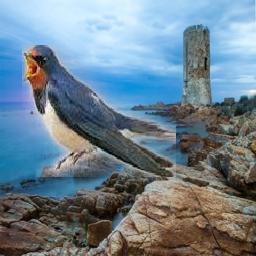Swallow: (22, 45, 176, 177)
